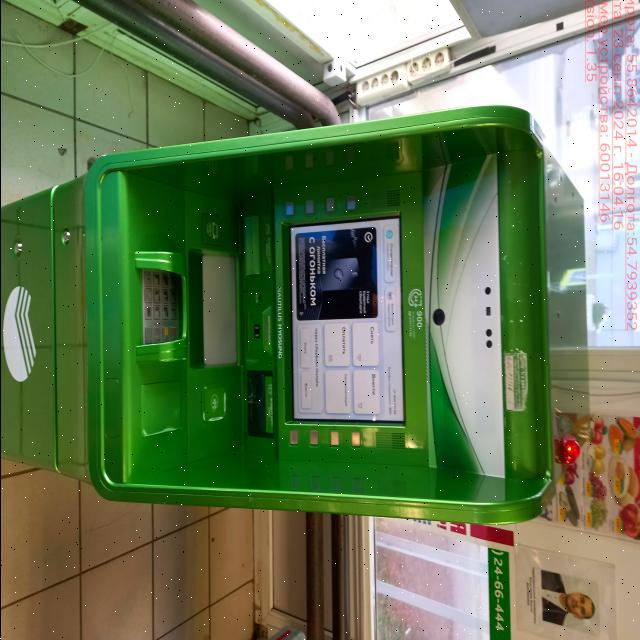bank: (0, 103, 589, 520)
